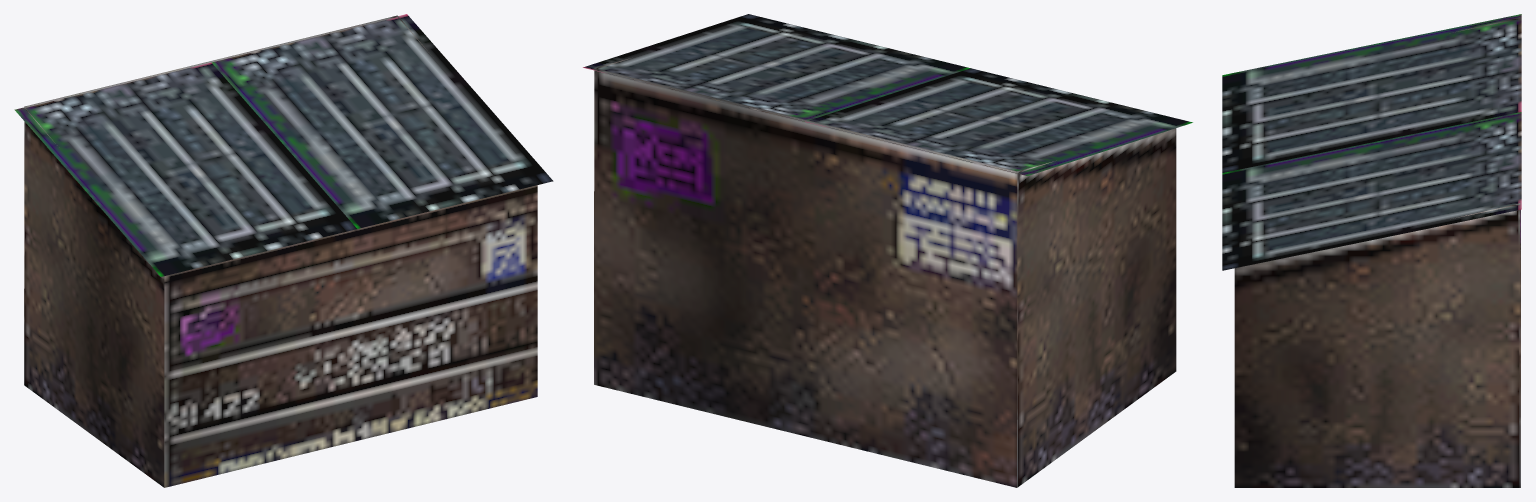
File: Environment - Prop - Trash Dumpster - PMDumpst04.glb
3 views of the same model, side by side, from view 1: azimuth 30°, elevation 25°; view 2: azimuth 150°, elevation 25°; view 3: azimuth 270°, elevation 25° (orthographic). The views are drawn at different scales.
Visible parts, largest first — view 1: PMDUMPST04; view 2: PMDUMPST04; view 3: PMDUMPST04.
Part boxes in pixels (<box>): PMDUMPST04: <box>14,14,553,487</box>; PMDUMPST04: <box>583,14,1192,487</box>; PMDUMPST04: <box>1222,14,1521,487</box>.
Bounding box in the file's own units: 18.13 × 12.31 × 11.72.
1 material, 1 textured.
